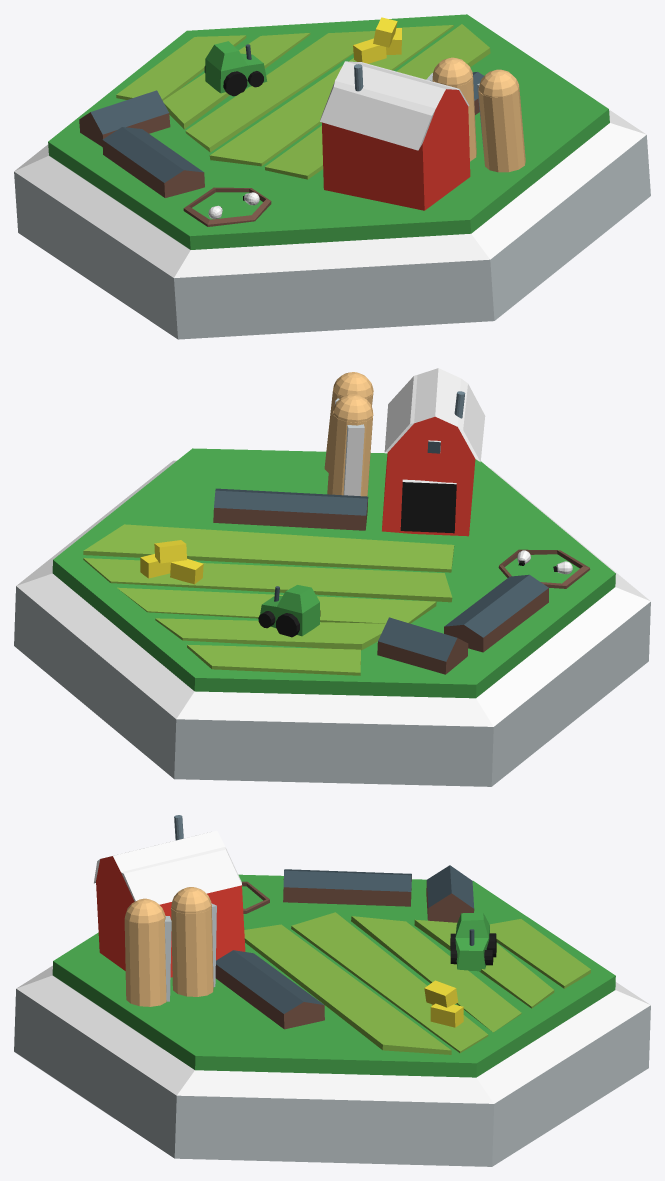
The picture shows the model from 3 angles, top to bottom: view 1: azimuth 30°, elevation 25°; view 2: azimuth 150°, elevation 25°; view 3: azimuth 270°, elevation 25°; orthographic projection.
Parts seen in each view (by area): view 1: group1005689348; view 2: group1005689348; view 3: group1005689348.
Part boxes in pixels (x1,y1,x2,y2): group1005689348: (14, 14, 650, 339); group1005689348: (14, 368, 650, 786); group1005689348: (14, 815, 650, 1166).
Size of the model in its own units: 1.33 by 0.6244 by 1.53.
Materials: 1 (1 with a texture image).
